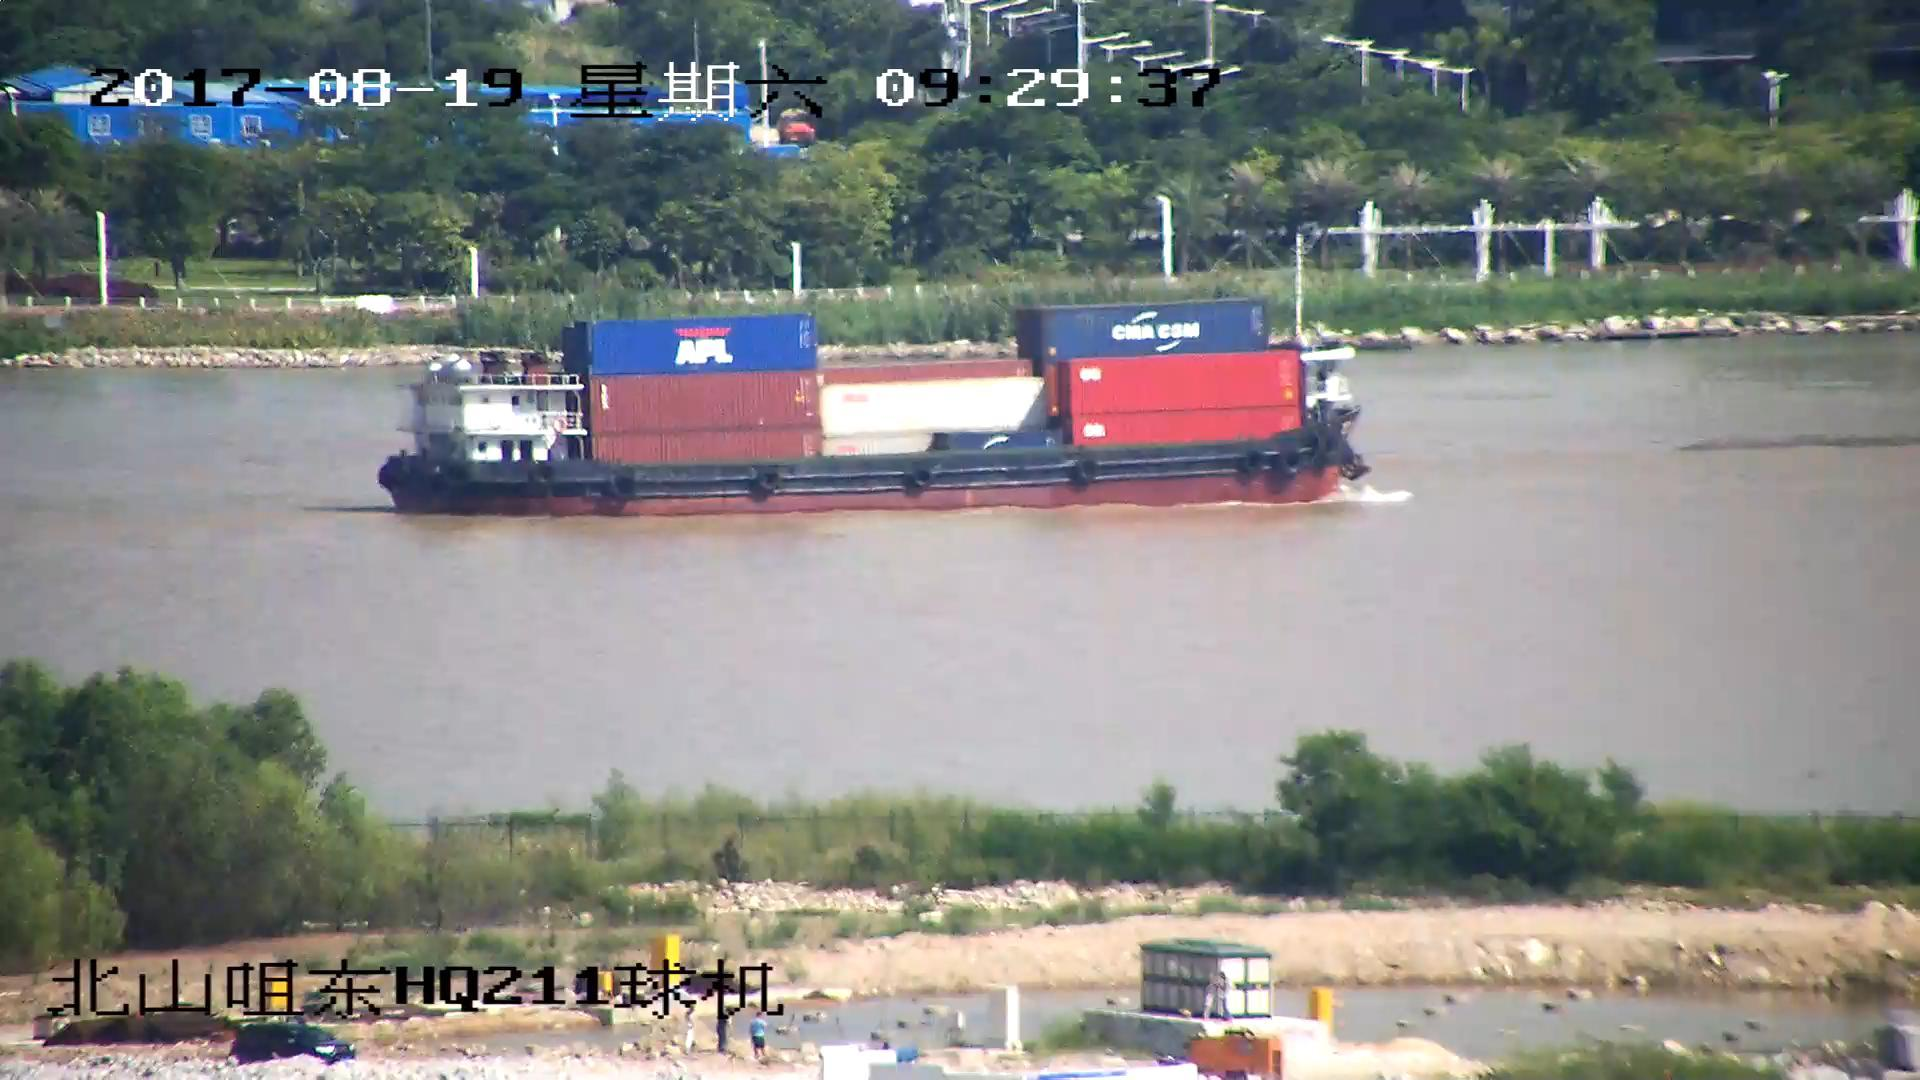Ship: (381, 233, 1379, 517)
